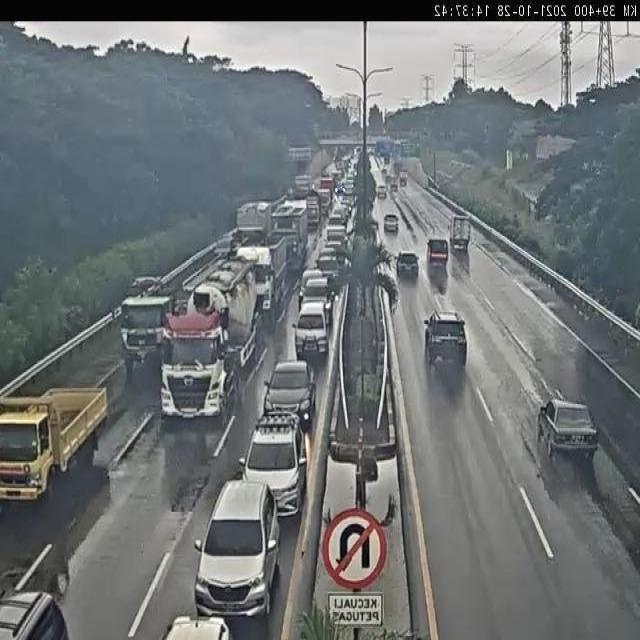Car: (192, 478, 280, 618), (240, 412, 308, 516), (538, 398, 599, 464), (423, 311, 468, 372), (299, 268, 334, 312), (315, 252, 344, 288), (324, 224, 346, 254), (396, 252, 419, 280), (332, 199, 350, 225), (327, 211, 345, 235), (340, 188, 355, 211), (377, 185, 387, 199), (394, 161, 403, 174), (390, 180, 398, 192), (400, 173, 407, 186), (382, 166, 388, 174)
Truck: (0, 387, 106, 509), (158, 302, 240, 425), (119, 286, 173, 378), (261, 359, 317, 431), (450, 215, 471, 252), (427, 238, 449, 266)
Van: (294, 299, 334, 361), (383, 214, 399, 232)
